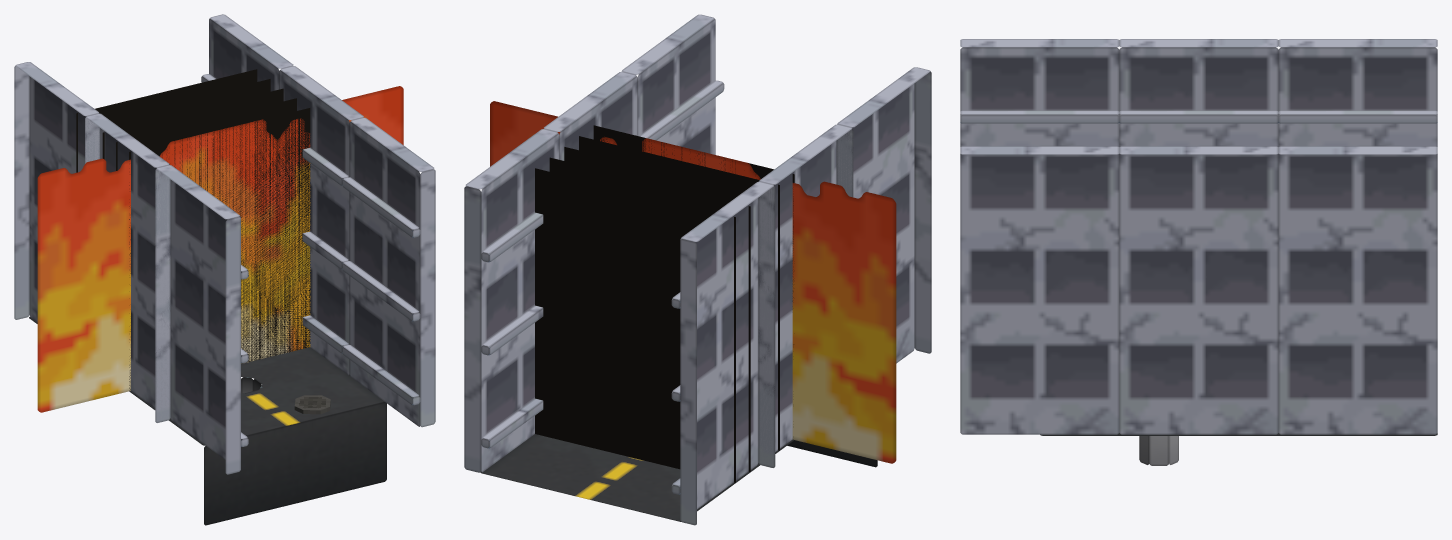
The model's file is start1.fbx.
The picture shows the model from 3 angles, left to right: view 1: azimuth 30°, elevation 25°; view 2: azimuth 150°, elevation 25°; view 3: azimuth 270°, elevation 25°; orthographic projection. The views are drawn at different scales.
Visible parts, largest first — view 1: cube, floor, building_2, building_4, ghostwall, building_3, building_6, building, builing-ledges_1, building_5, ghostwall_4, ghostwall_2 (+4 smaller); view 2: ghostwall_4, cube, building_6, building_5, building_4, building_3, floor, building_2, building, ghostwall_3, ghostwall_1, builing-ledges_4 (+3 smaller); view 3: building, building_2, building_5, building_3, building_4, building_6, builing-ledges_2, builing-ledges_3, builing-ledges_5, floor.
Part boxes in pixels (x1,y1,x2,y2): cube: (37,86,403,412); floor: (29,317,386,525); building_2: (349,117,435,427); building_4: (155,165,240,474); ghostwall: (129,108,310,391); building_3: (85,113,170,422); building_6: (14,62,100,322); building: (279,66,363,375); builing-ledges_1: (342,177,420,405); building_5: (209,14,293,91); ghostwall_4: (76,69,257,172); ghostwall_2: (102,88,283,159); ghostwall_4: (535,168,735,482); cube: (490,101,896,463); building_6: (680,181,775,525); building_5: (464,129,559,472); building_4: (836,67,931,363); building_3: (758,124,853,467); floor: (480,434,877,521); building_2: (622,14,715,154); building: (544,71,637,160); ghostwall_3: (549,157,750,472); ghostwall_1: (579,136,779,450); builing-ledges_4: (481,212,543,448); building: (1119,146,1278,434); building_2: (960,146,1119,434); building_5: (1278,146,1437,434); building_3: (1119,39,1278,146); building_4: (960,39,1119,146); building_6: (1278,39,1437,146); builing-ledges_2: (1119,110,1278,123); builing-ledges_3: (960,110,1119,123); builing-ledges_5: (1278,110,1437,123); floor: (1040,433,1437,465).
Bounding box in the file's own units: 300 × 262 × 300.
5 materials, 5 textured.
